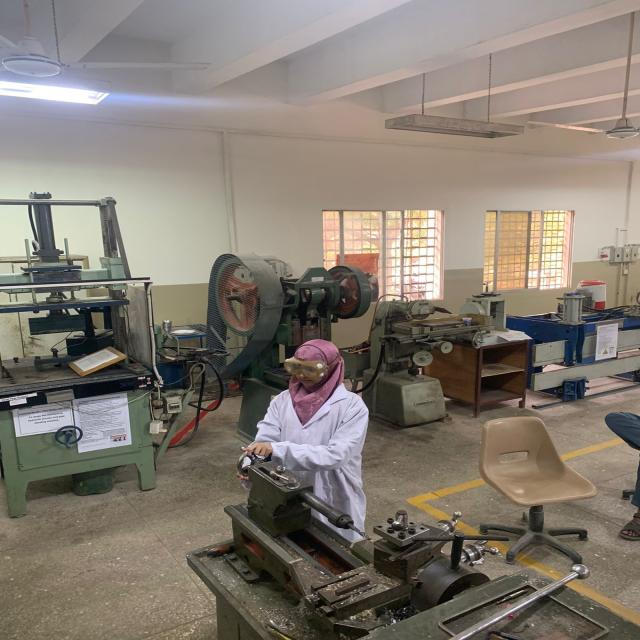googles: (283, 357, 330, 381)
labcoat: (247, 380, 372, 548)
